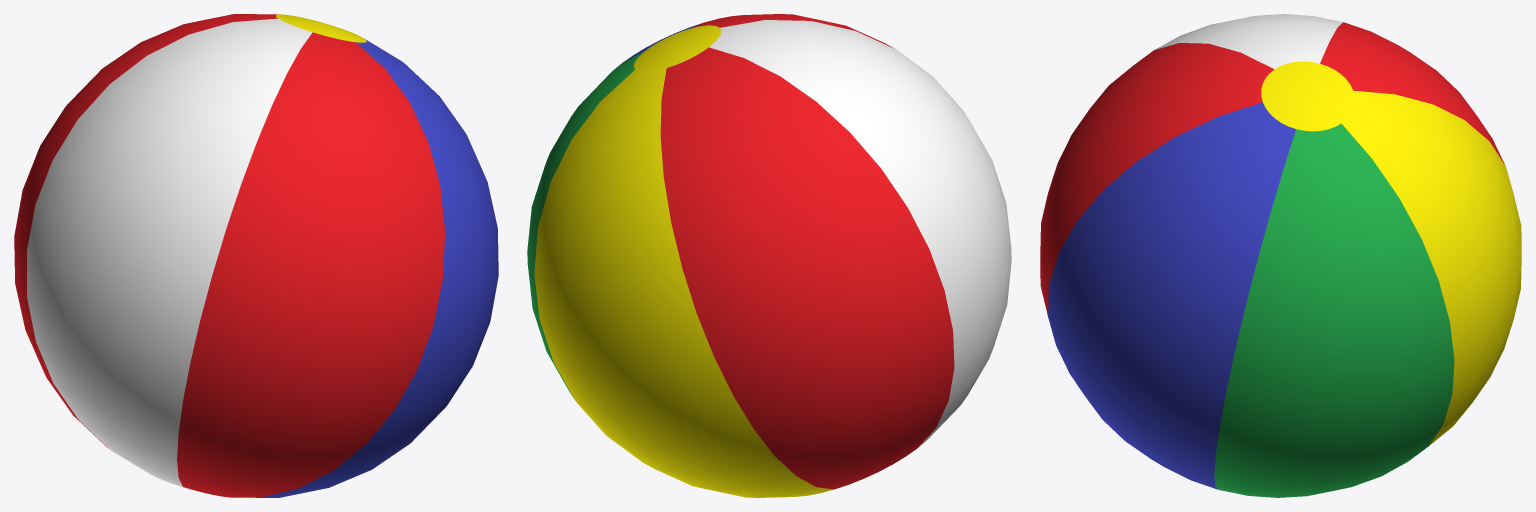
Rendered from BeachBall.dae.
3 views of the same model, side by side, from view 1: azimuth 30°, elevation 25°; view 2: azimuth 150°, elevation 25°; view 3: azimuth 270°, elevation 25° (orthographic).
Visible parts, largest first — view 1: sphere2; view 2: sphere2; view 3: sphere2.
Boxes of the visible parts, x1,y1,x2,y2 form: sphere2: [14, 14, 498, 497]; sphere2: [527, 14, 1011, 497]; sphere2: [1040, 14, 1521, 497].
Size of the model in its own units: 3.86 by 3.86 by 3.83.
